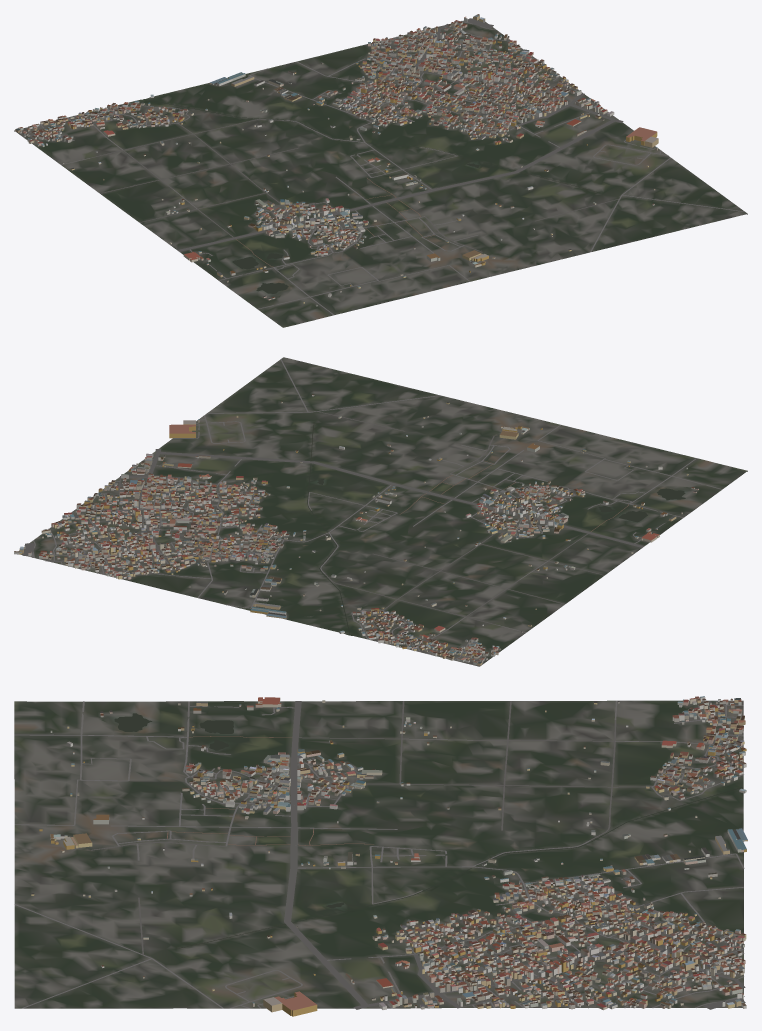
3 views of the same model, one above another, from view 1: azimuth 30°, elevation 25°; view 2: azimuth 150°, elevation 25°; view 3: azimuth 270°, elevation 25° (orthographic). The views are drawn at different scales.
Visible parts, largest first — view 1: ground, buildings, roads, water; view 2: ground, buildings, roads, water; view 3: ground, buildings, roads, water.
Part boxes in pixels (x1,y1,x2,y2): ground: [14, 18, 747, 327]; buildings: [15, 14, 658, 306]; roads: [23, 18, 744, 315]; water: [144, 99, 599, 293]; ground: [19, 357, 747, 666]; buildings: [14, 394, 698, 665]; roads: [22, 359, 722, 664]; water: [307, 422, 685, 634]; ground: [14, 700, 743, 1008]; buildings: [31, 696, 747, 1016]; roads: [14, 700, 745, 1009]; water: [114, 713, 743, 949].
Bounding box in the file's own units: 1442 × 25.76 × 1411.
